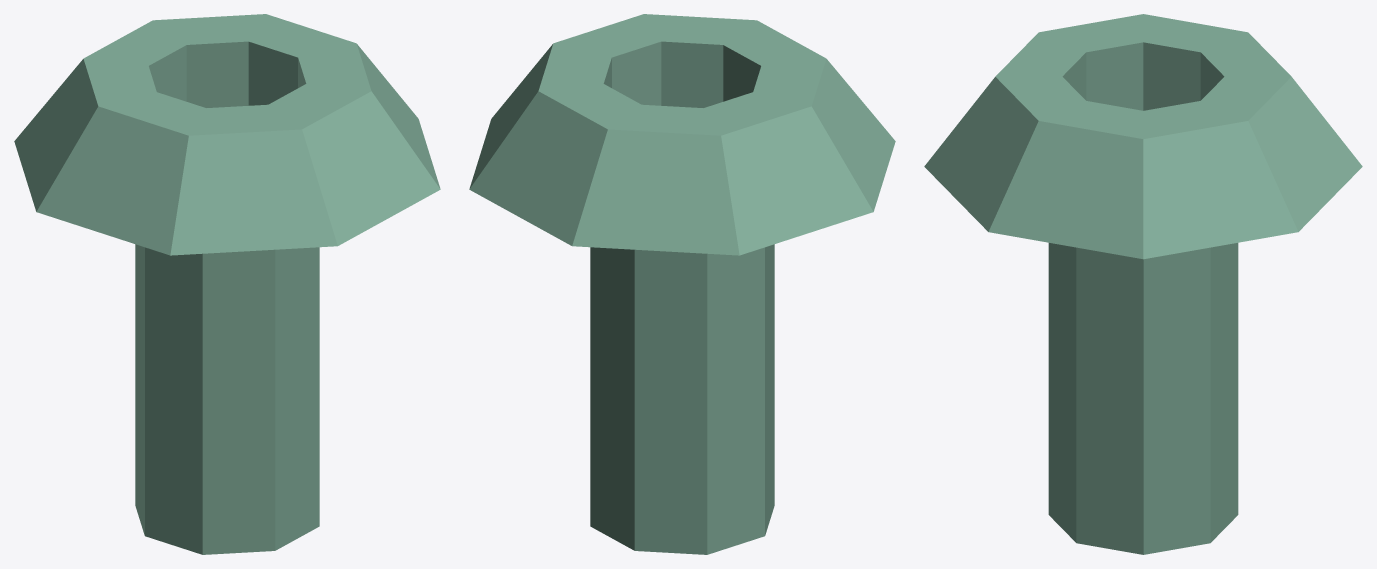
Rendered from screw.fbx.
The picture shows the model from 3 angles, left to right: view 1: azimuth 30°, elevation 25°; view 2: azimuth 150°, elevation 25°; view 3: azimuth 270°, elevation 25°; orthographic projection.
Parts seen in each view (by area): view 1: Cylinder; view 2: Cylinder; view 3: Cylinder.
Part boxes in pixels (x1,y1,x2,y2): Cylinder: (14, 14, 440, 554); Cylinder: (469, 14, 895, 554); Cylinder: (924, 14, 1362, 554).
Bounding box in the file's own units: 55.03 × 60.68 × 55.03.
